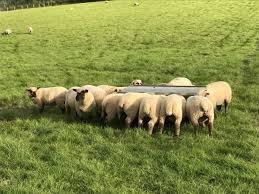sheep: (23, 84, 65, 117), (202, 79, 235, 119), (64, 86, 97, 121), (161, 94, 183, 135), (186, 96, 211, 132), (114, 92, 138, 129), (138, 94, 159, 134), (98, 92, 115, 122), (1, 29, 13, 37), (23, 26, 32, 36)
